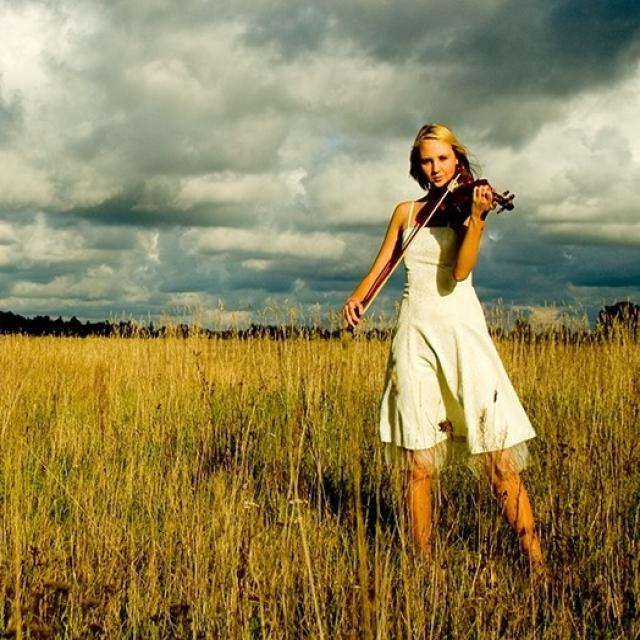violin: (429, 168, 515, 225)
